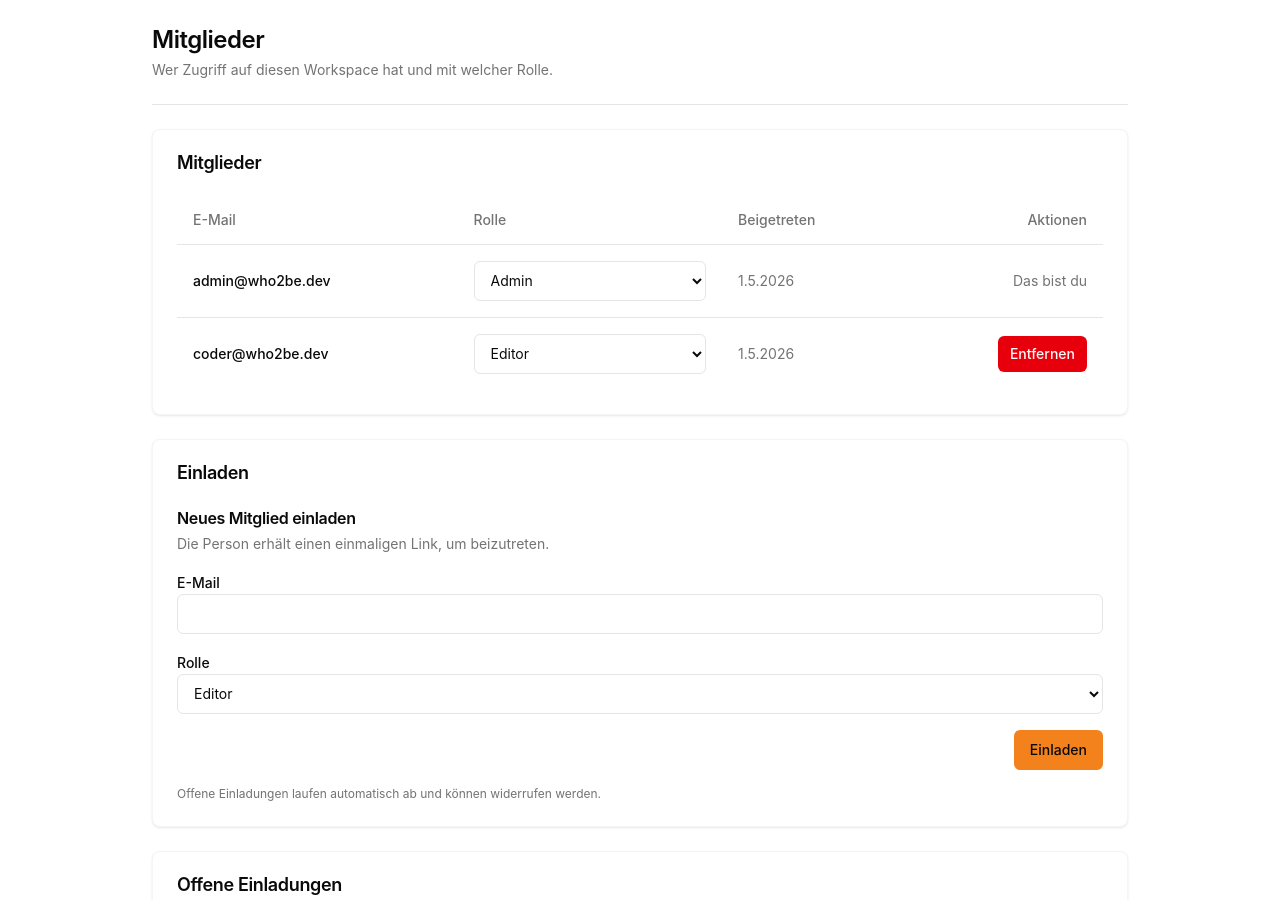
Test: MembersPage — Mitglied entfernen › Bestaetigen ruft DELETE genau einmal, meldet den Widerruf und laedt neu
Step 1. Click the button "Entfernen" → (1042, 354), box [998,336,1087,372]
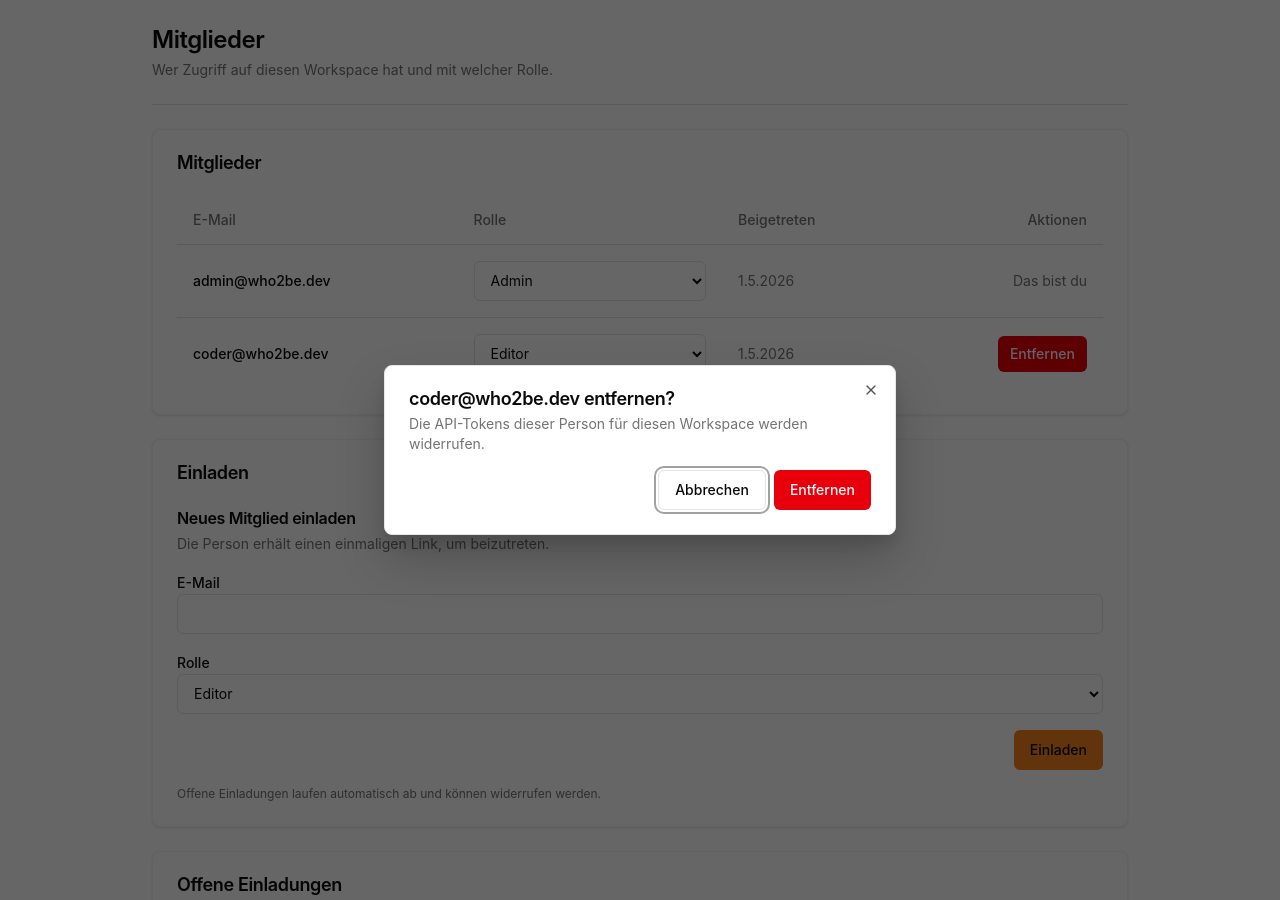
// Doppelklick: der zweite Klick darf kein zweites DELETE ausloesen.
Step 2. Click the button "Entfernen" → (822, 490), box [774,470,871,510]
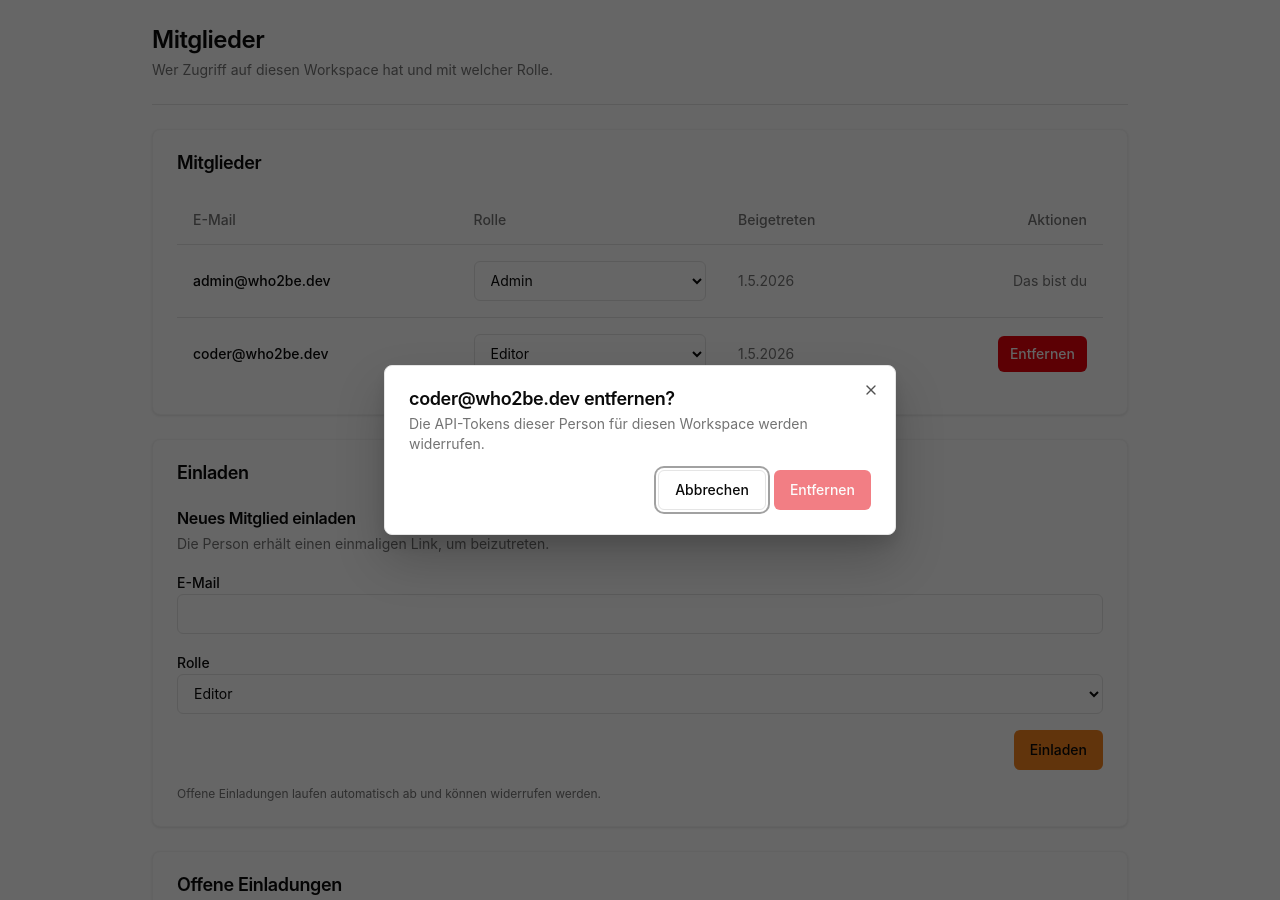
Step 3. Click the button "Entfernen" → (822, 490), box [774,470,871,510]
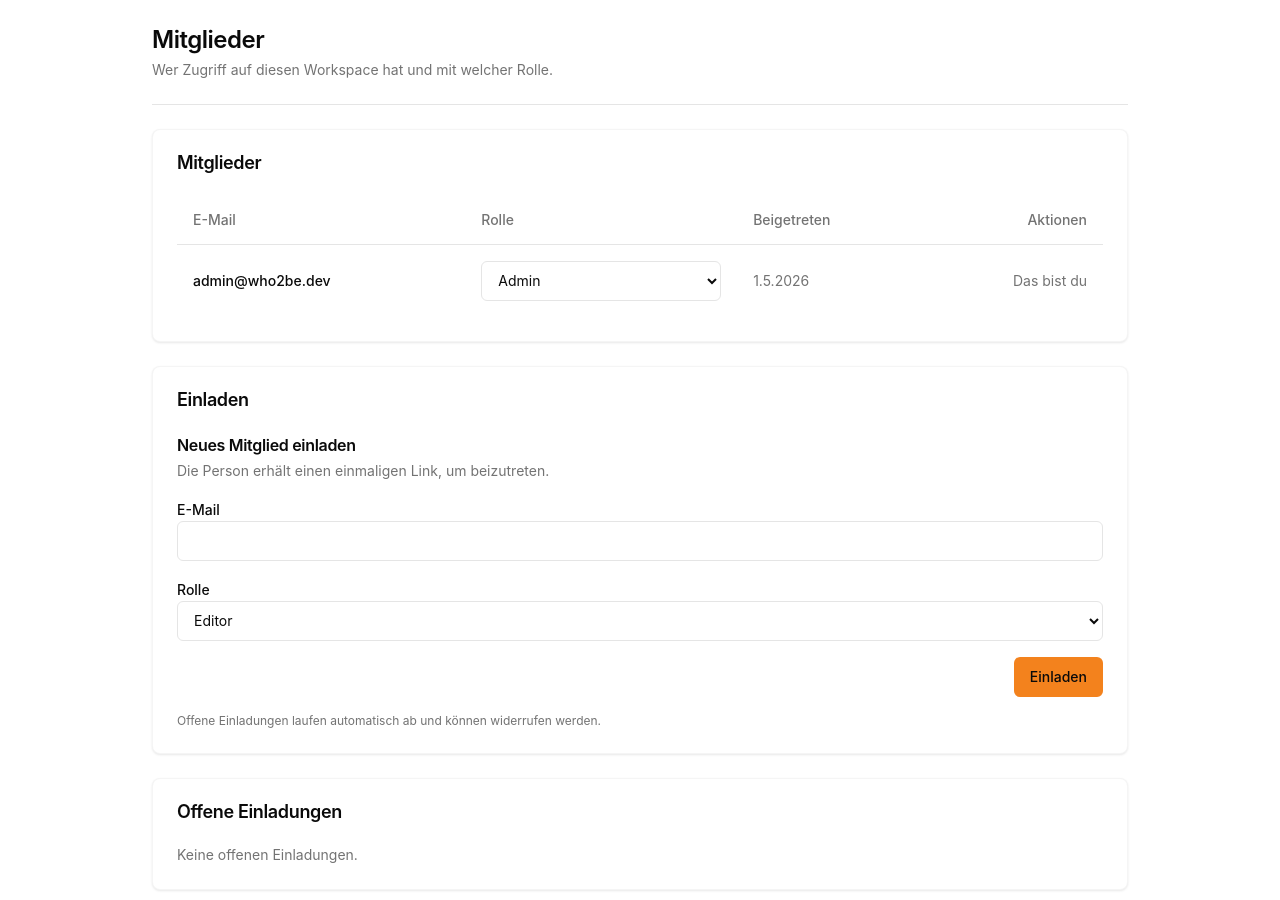
Check: the text "coder@who2be.dev" is gone
Check: the dialog is gone
